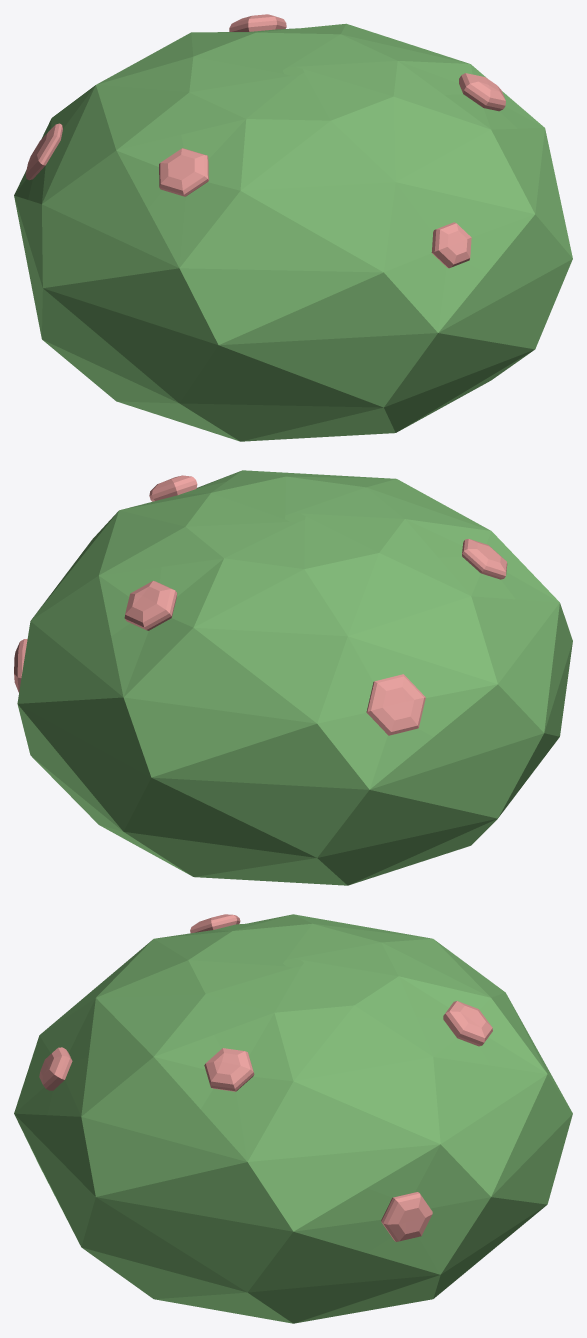
The model's file is Bush1b.fbx.
3 renders of one model, top to bottom at view 1: azimuth 30°, elevation 25°; view 2: azimuth 150°, elevation 25°; view 3: azimuth 270°, elevation 25°, orthographic. The views are drawn at different scales.
Parts seen in each view (by area): view 1: Sphere; view 2: Sphere; view 3: Sphere.
Part boxes in pixels (x1,y1,x2,y2): Sphere: (14,14,572,441); Sphere: (14,470,572,885); Sphere: (14,914,572,1323).
Bounding box in the file's own units: 200 × 109 × 200.
